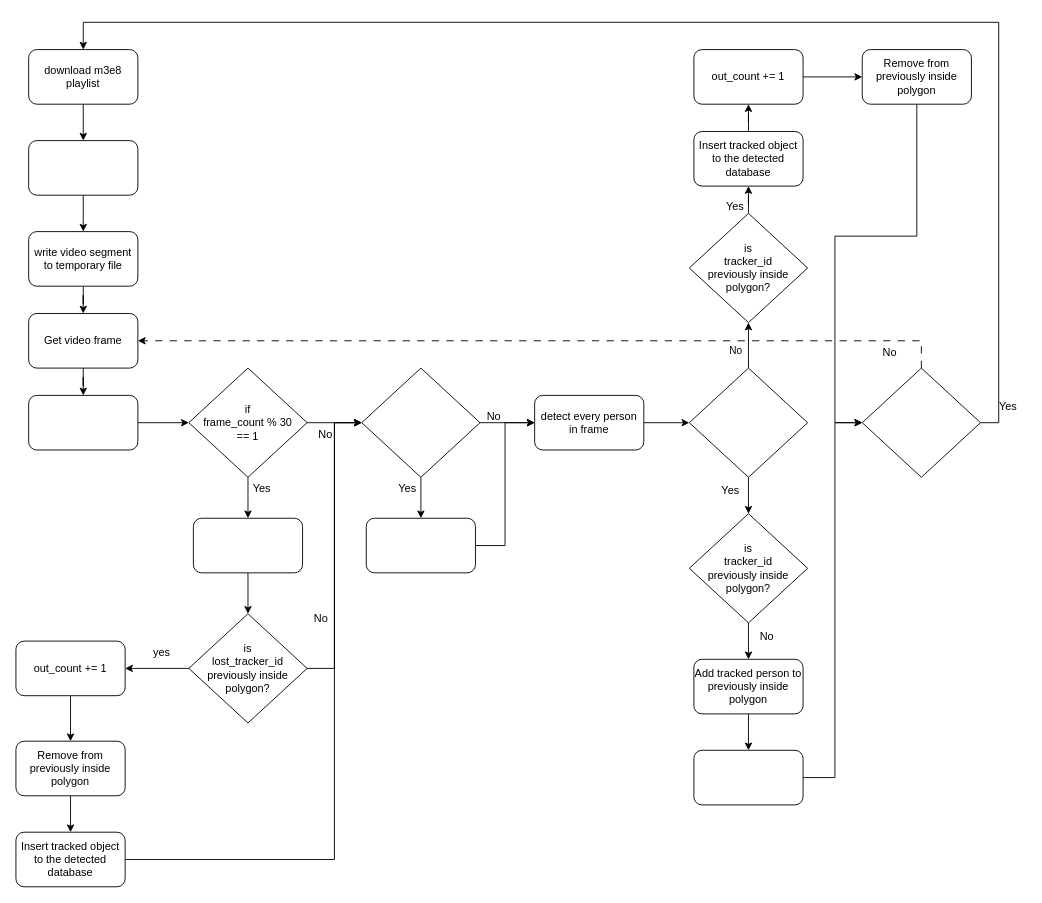
Some shapes in this 1042 by 903 pixel diagram are drawn without their labels. Each missing label, with the centre of its shape:
Check for lost tracker: the point at 247,545
download video segment from playlist: the point at 83,167
frame_count+=1: the point at 83,422
if frame_count % 60 == 1: the point at 420,422
in_count += 1: the point at 748,777
Is end of m3u8 playlist: the point at 921,422
Is person inside polygon?: the point at 748,422
Update Polygon area from database: the point at 420,545
